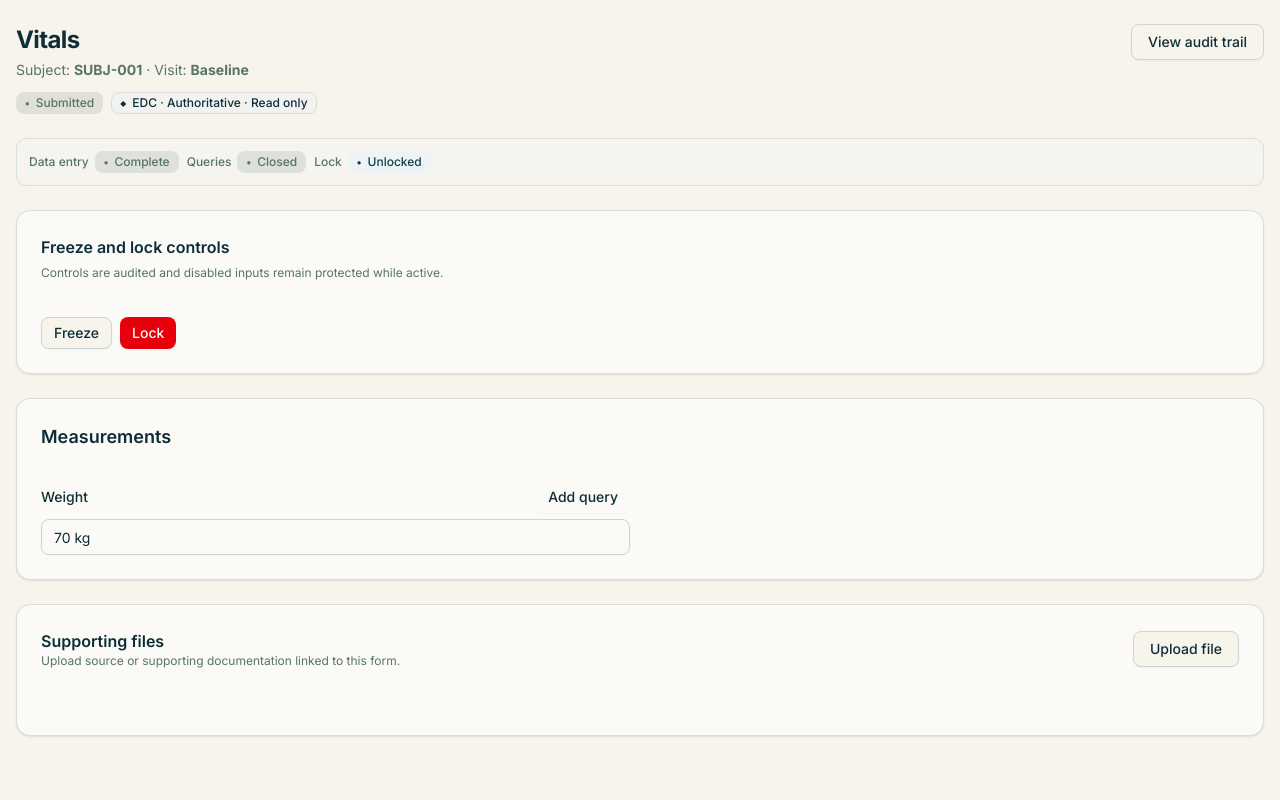
Test case: Phase 2 workflow controls › creates a query for a specific saved field value from the data-entry page
Click the button with aria-label "Add query for Weight" at (583, 497), box [536,481,630,513]
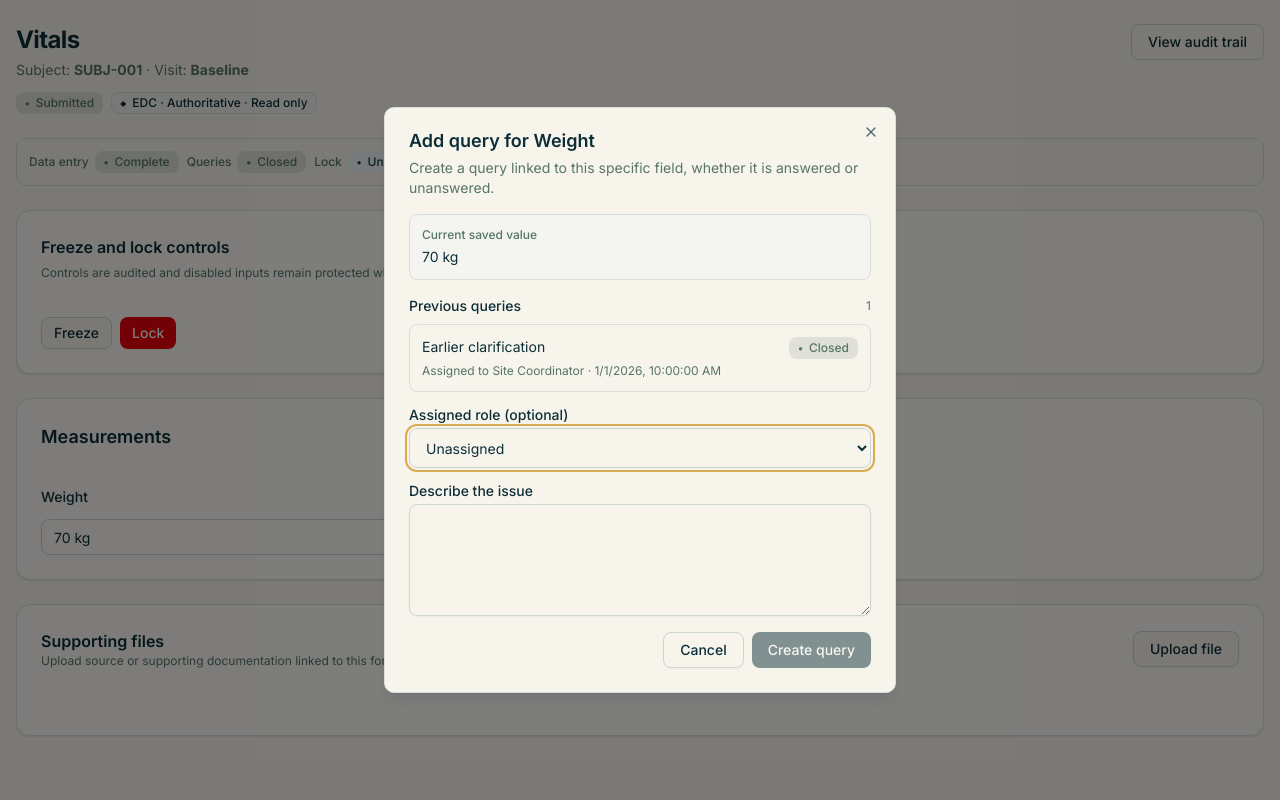
Check: the dialog "Add query for Weight" is shown, box [384,107,896,693]
Check: the text "70 kg" is shown, box [422,248,458,265]
Check: the text "Earlier clarification" is shown, box [422,337,545,357]
Select "Site Coordinator" in the dropdown labelled "Assigned role (optional)" at (640, 448), box [409,428,871,468]
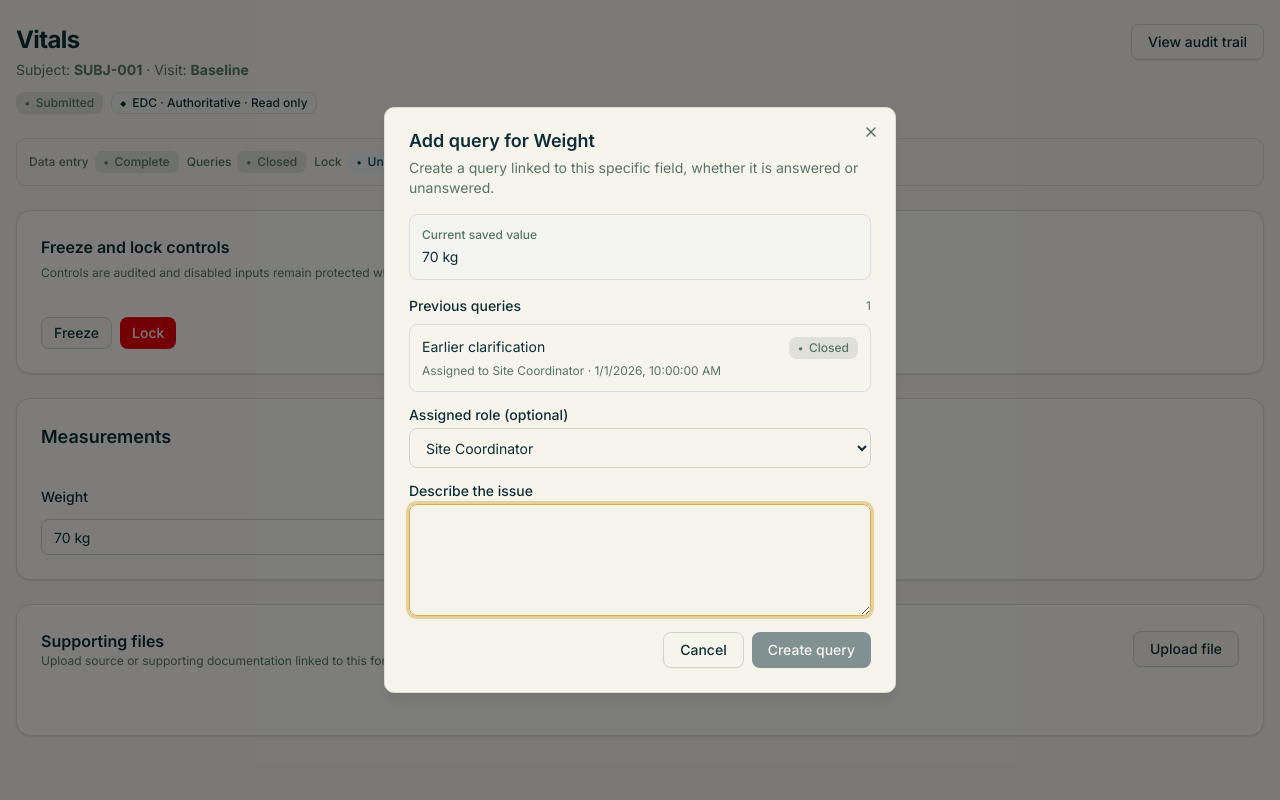
Type "Please confirm this measurement." into the text box labelled "Describe the issue" at (640, 560), box [409,504,871,616]
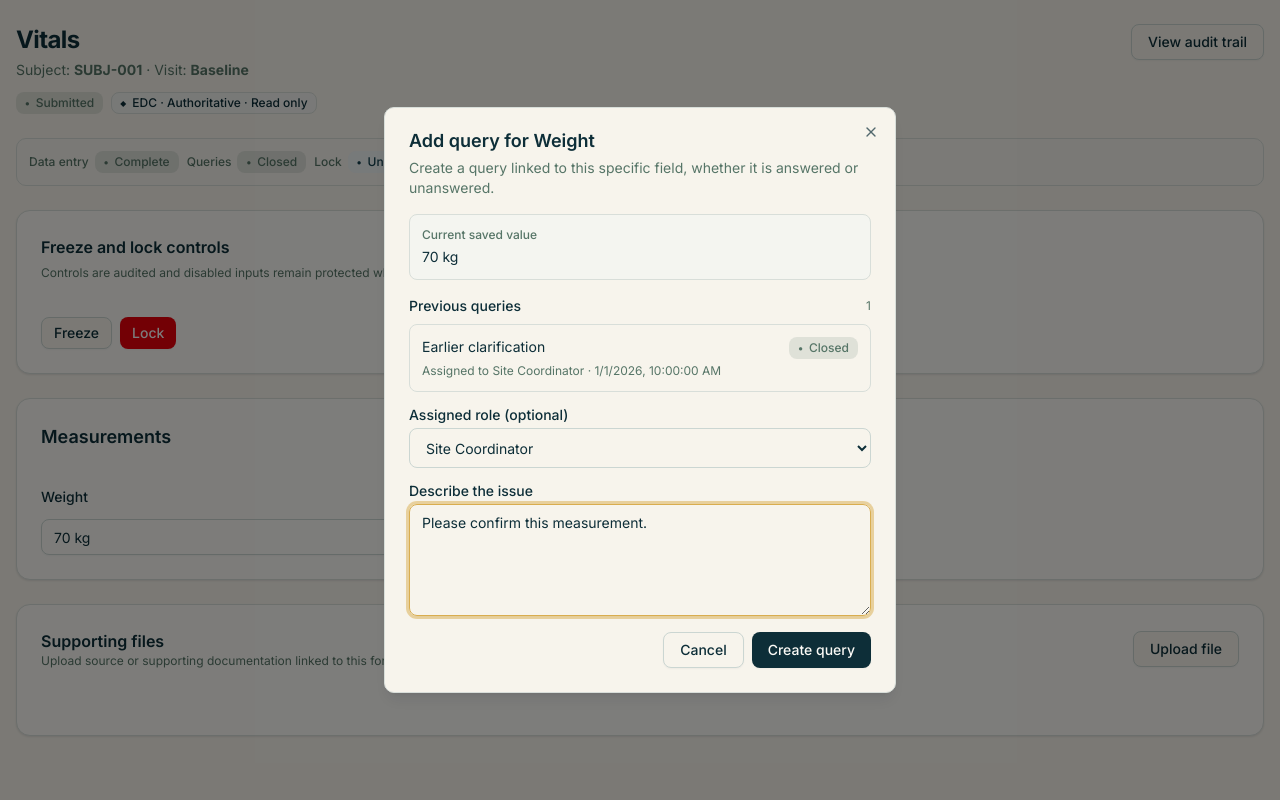
Click the button "Create query" at (811, 650), box [752,632,871,668]
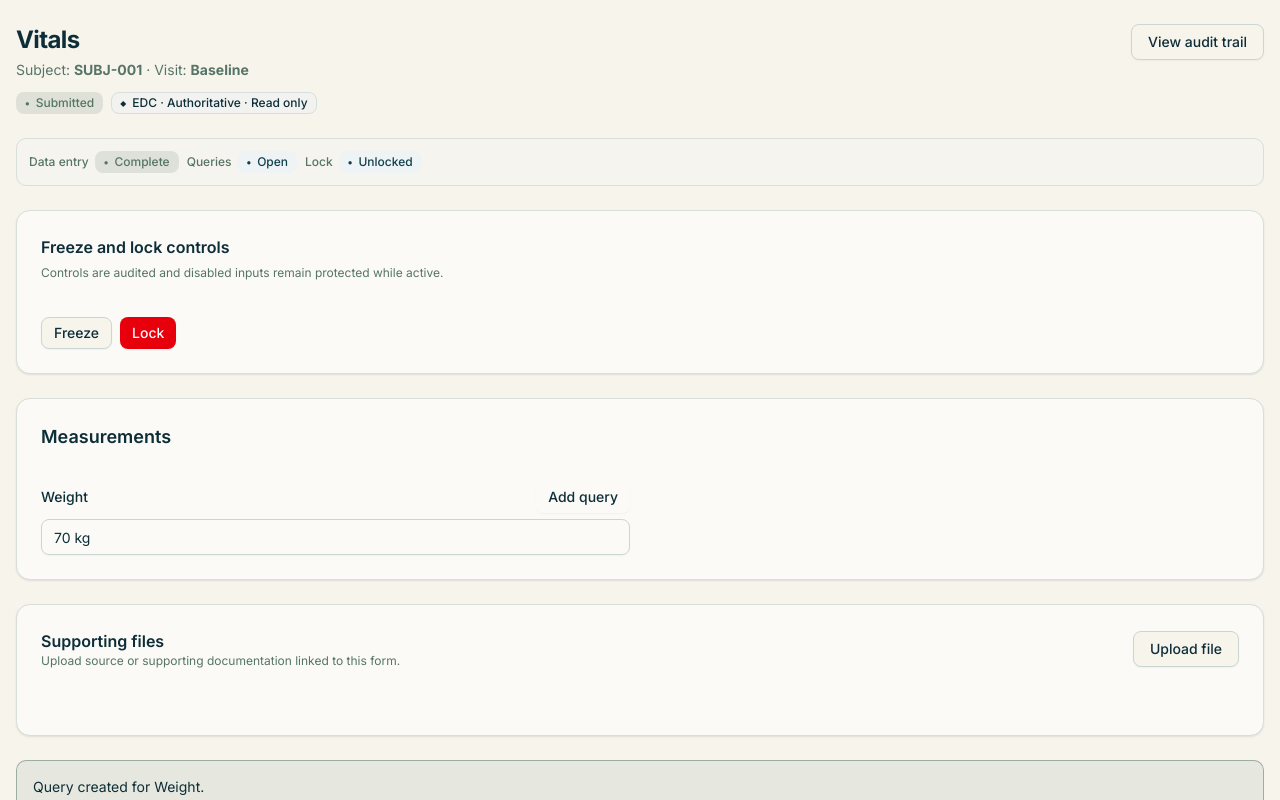
Check: the text "Query created for Weight." is shown, box [33,778,204,795]
